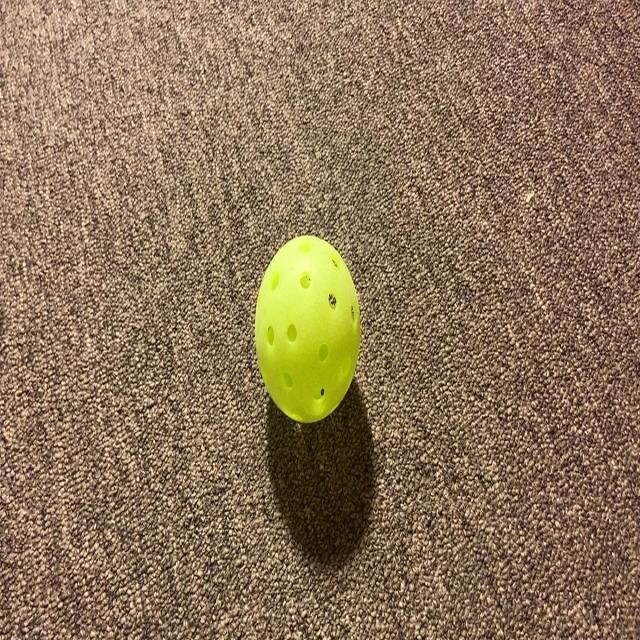ball: (255, 233, 368, 422)
